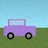vehicle: (4, 19, 36, 39)
